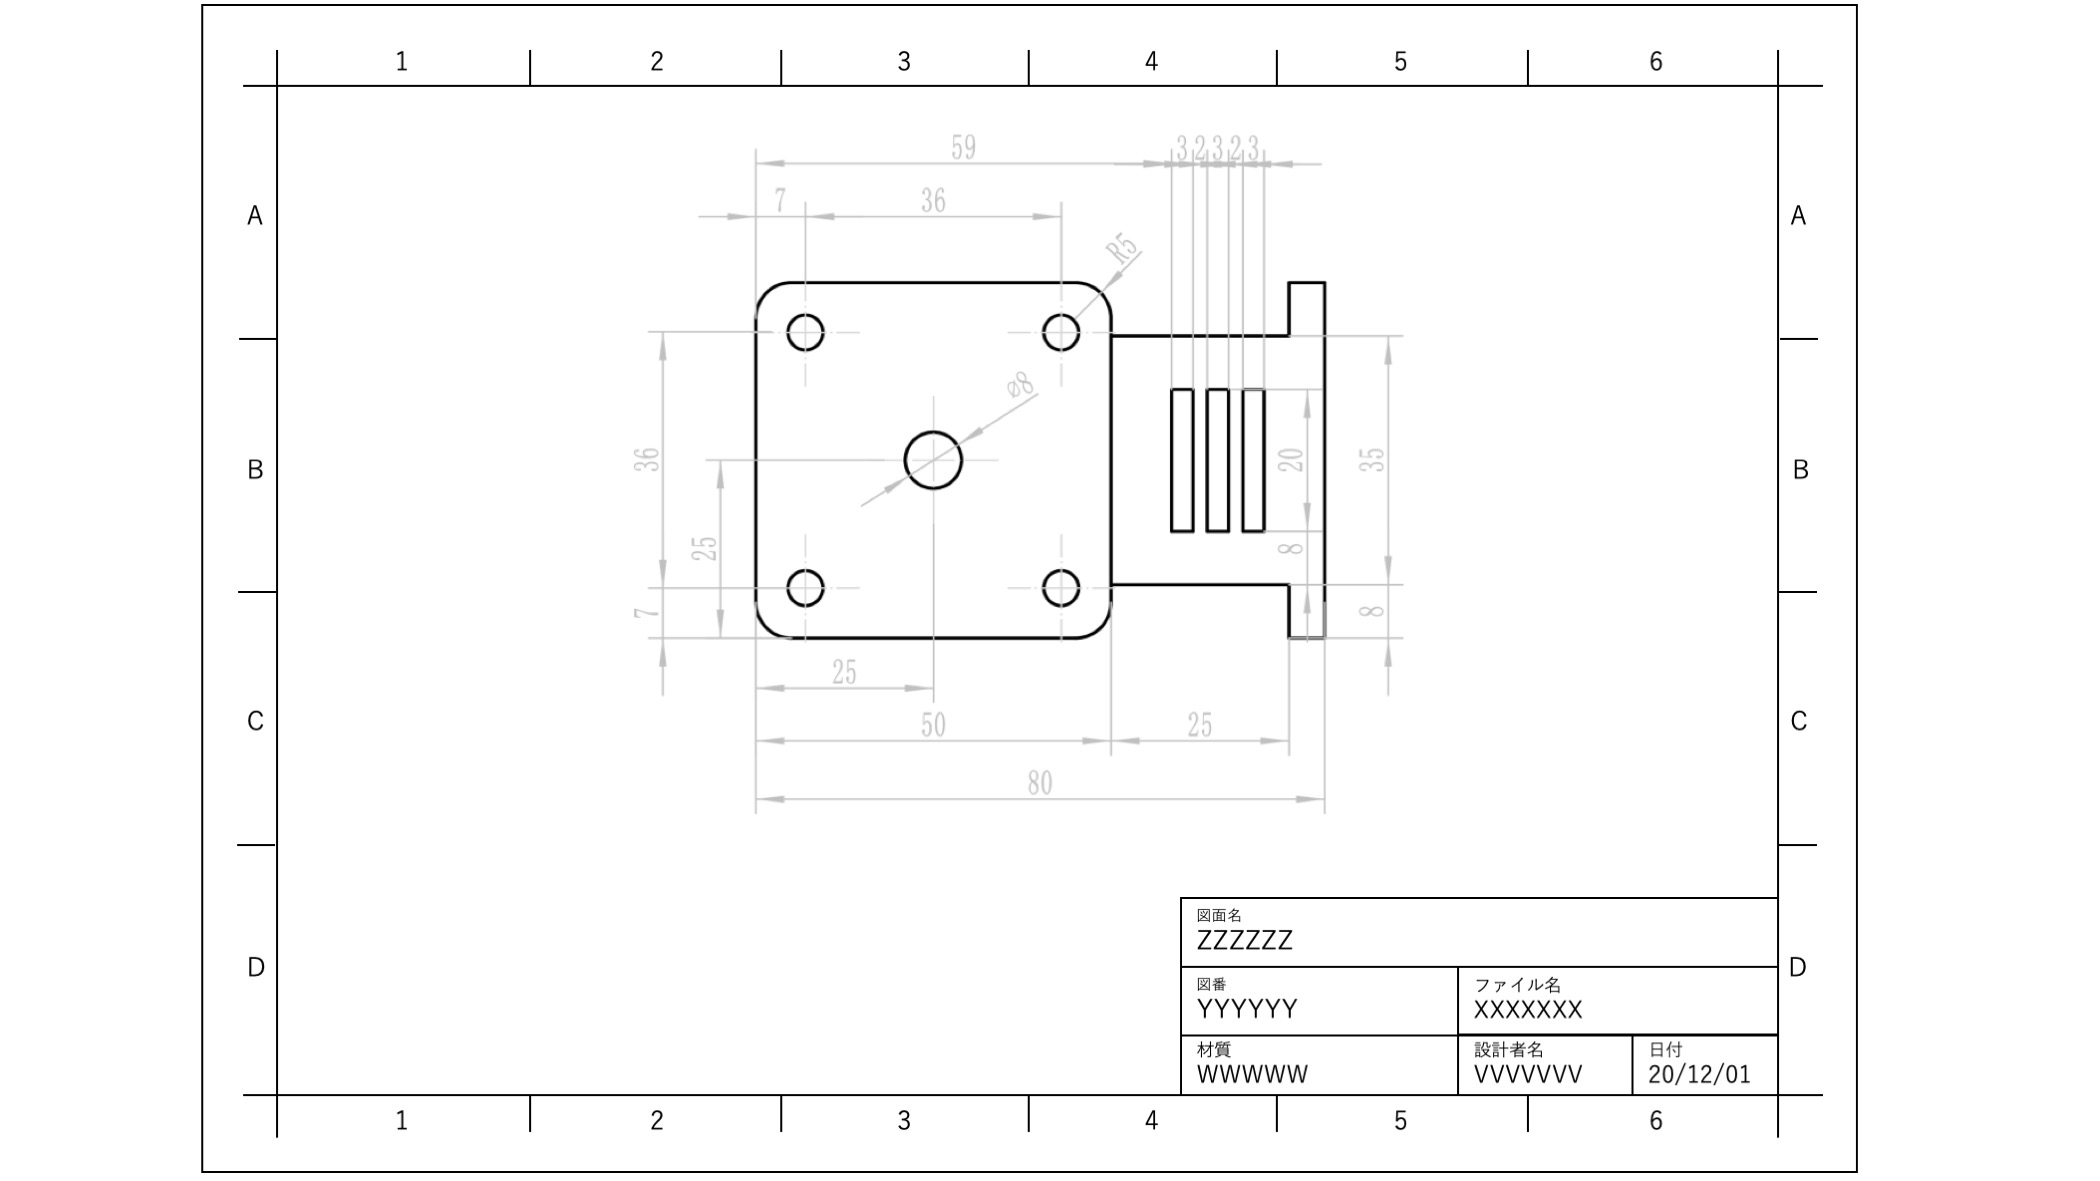circle: (899, 423, 966, 497), (777, 552, 835, 617), (1036, 559, 1085, 617), (782, 300, 828, 352), (1038, 301, 1080, 358)
rectangle: (1162, 375, 1199, 542), (1237, 381, 1272, 539), (1201, 375, 1233, 542)
